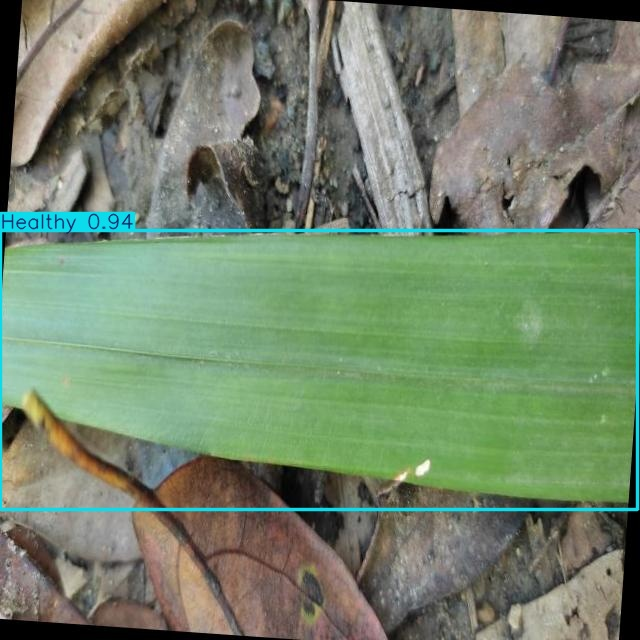Healthy: (1, 231, 637, 509)
